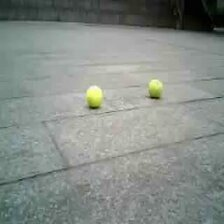tennis: (85, 85, 102, 106), (148, 79, 163, 97)
